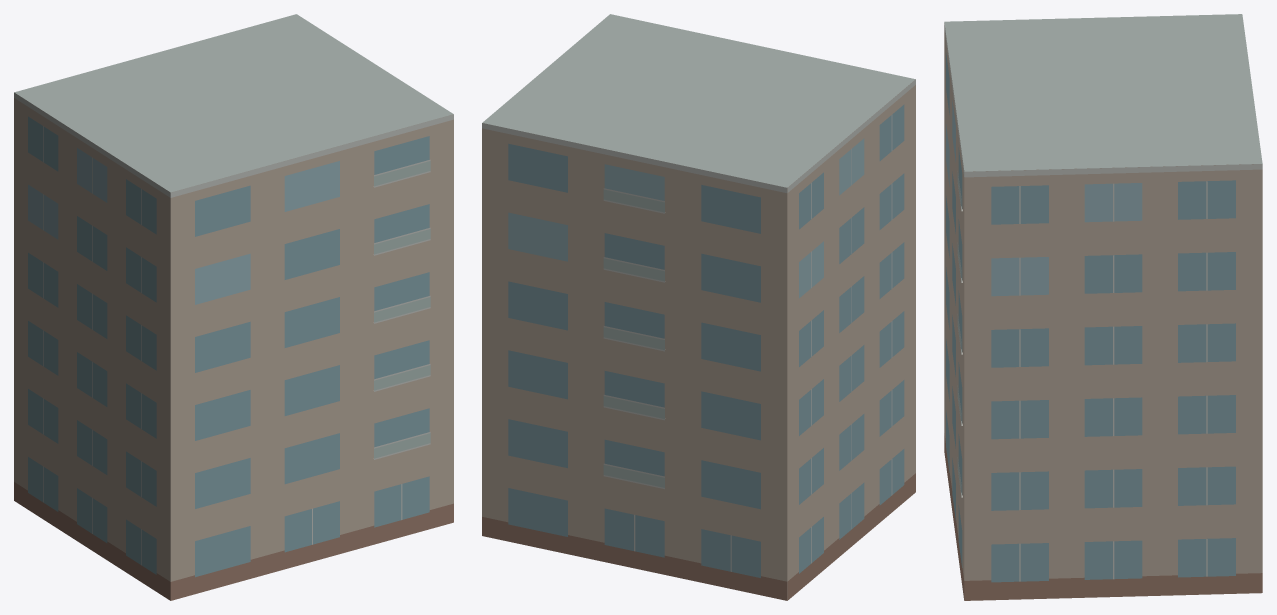
File: survey-upis-32894218.glb
3 renders of one model, left to right at view 1: azimuth 30°, elevation 25°; view 2: azimuth 150°, elevation 25°; view 3: azimuth 270°, elevation 25°, orthographic. The views are drawn at different scales.
Visible parts, largest first — view 1: survey-upis-32894218.tmp; view 2: survey-upis-32894218.tmp; view 3: survey-upis-32894218.tmp.
Part boxes in pixels (box(x1,y1,x2,y2)): survey-upis-32894218.tmp: box(14, 14, 453, 600); survey-upis-32894218.tmp: box(482, 14, 915, 600); survey-upis-32894218.tmp: box(944, 14, 1262, 600).
Bounding box in the file's own units: 14.43 × 18.3 × 12.31.
